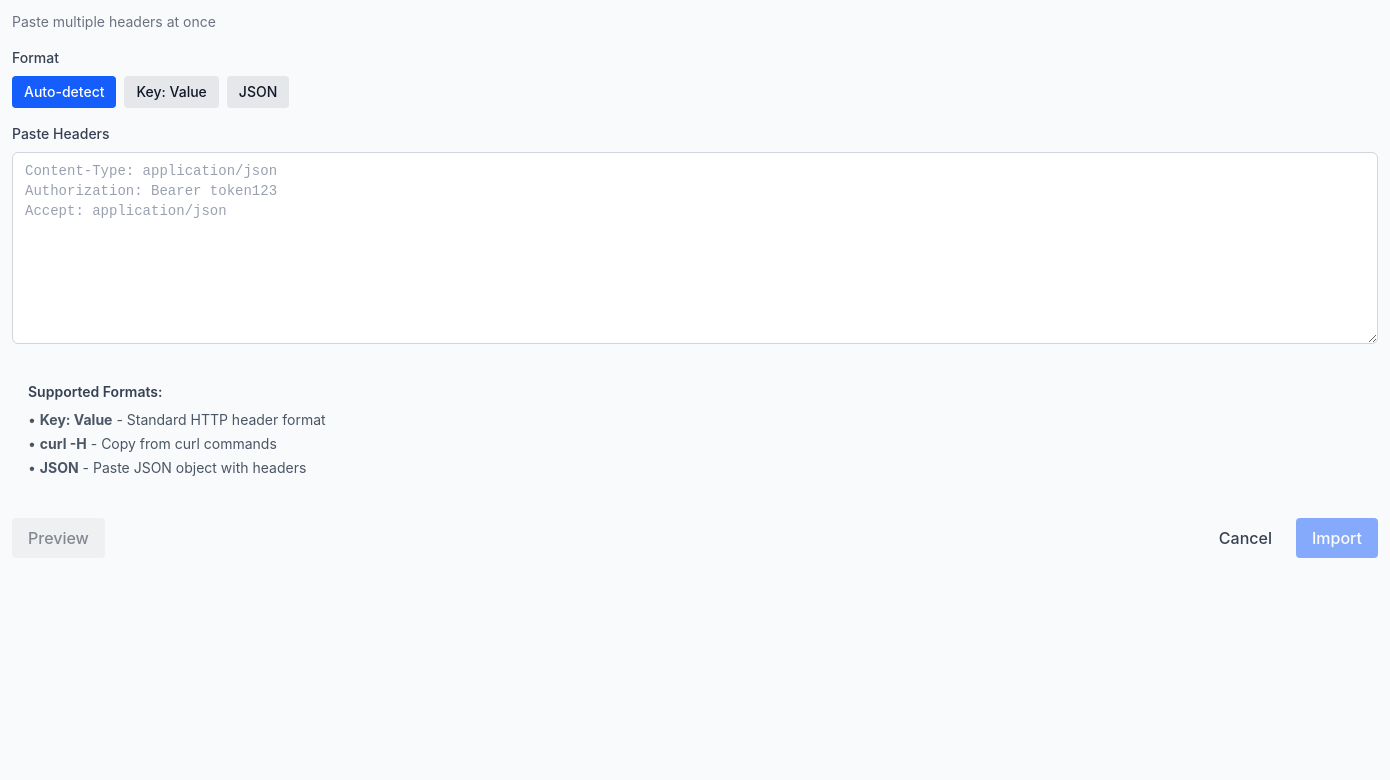
Test: BatchHeadersForm › shows error for unparseable input
The image size is (1390, 780).
Type "nocolonhere" into the text box.
click(695, 248); type("nocolonhere")  # box top-left (12, 152), bottom-right (1378, 344)
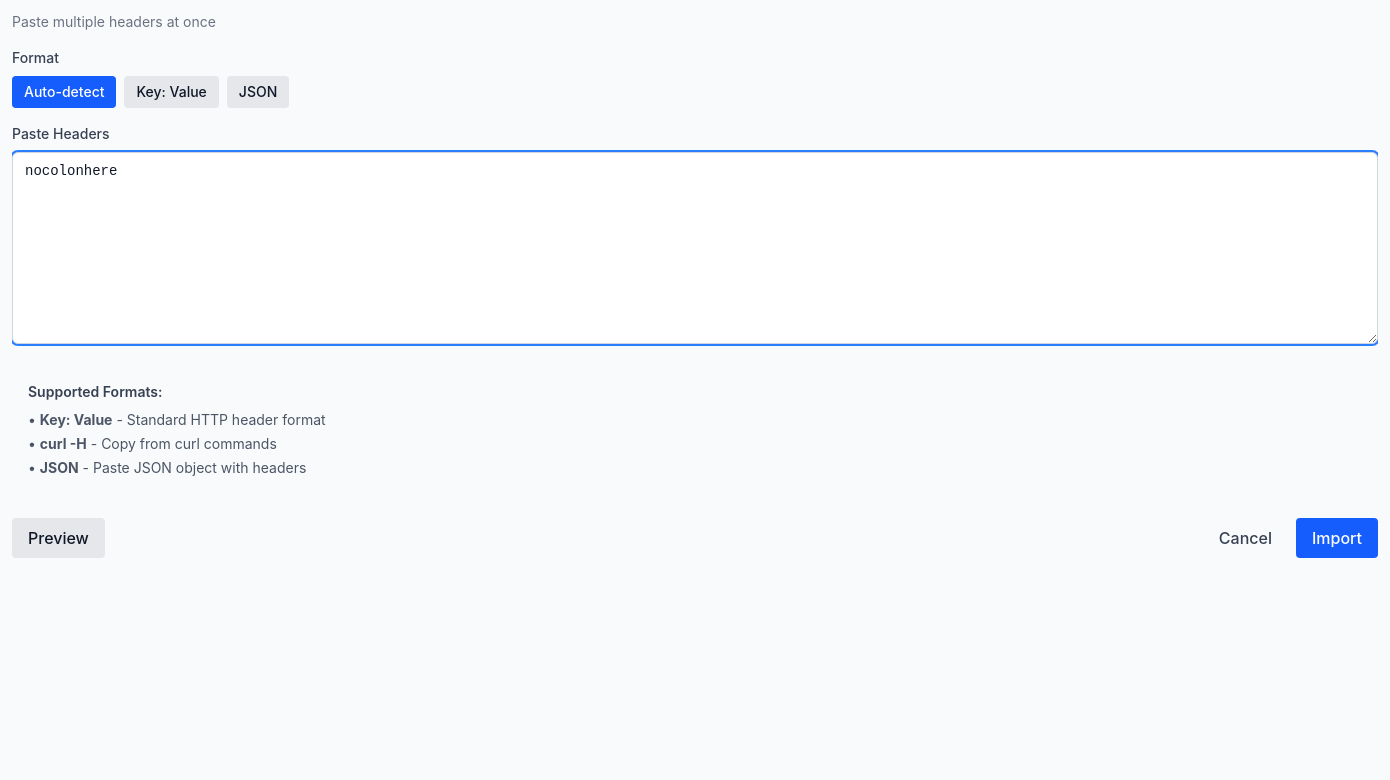
Click the button "Preview".
click(58, 538)  # box top-left (12, 518), bottom-right (105, 558)
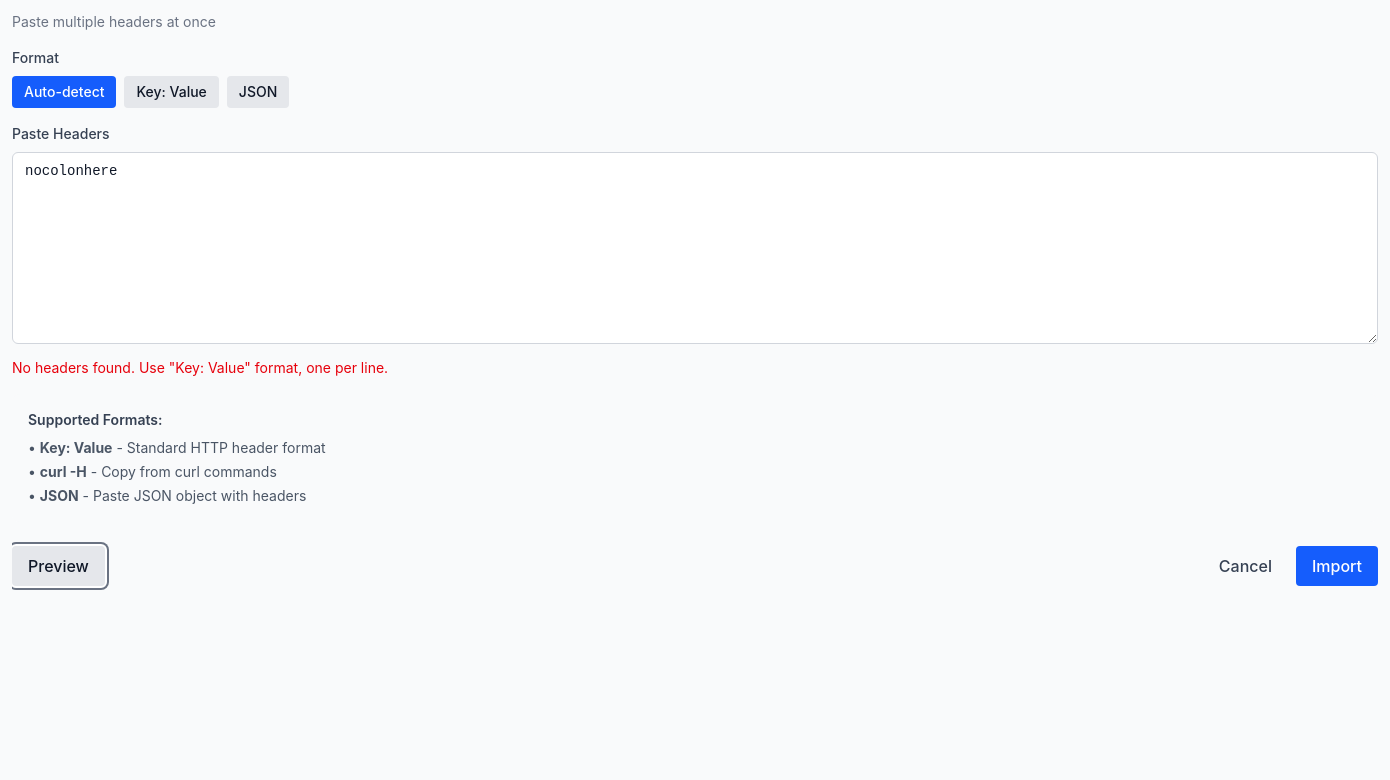
Expected: the text "No headers found. Use \"Key: Value\" format, one per line." is shown, top-left (12, 359), bottom-right (388, 376)
